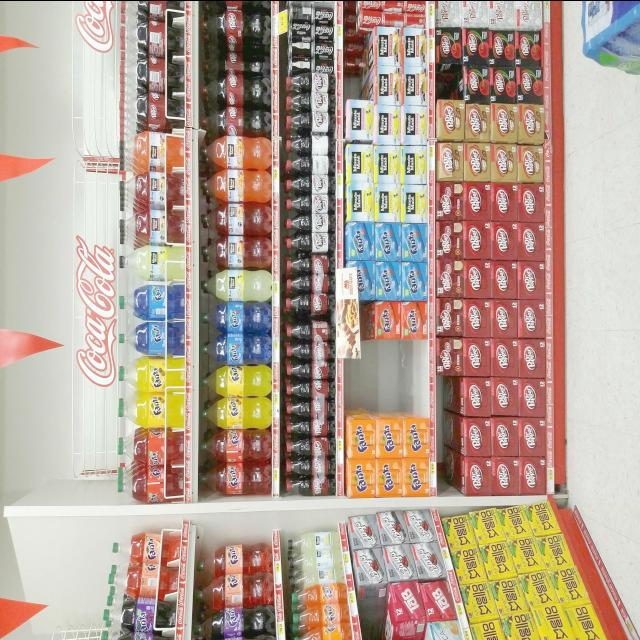empty_space: (362, 340, 425, 410), (367, 598, 389, 638), (438, 71, 456, 99)
